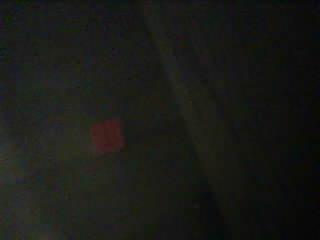lego: (89, 119, 126, 155)
